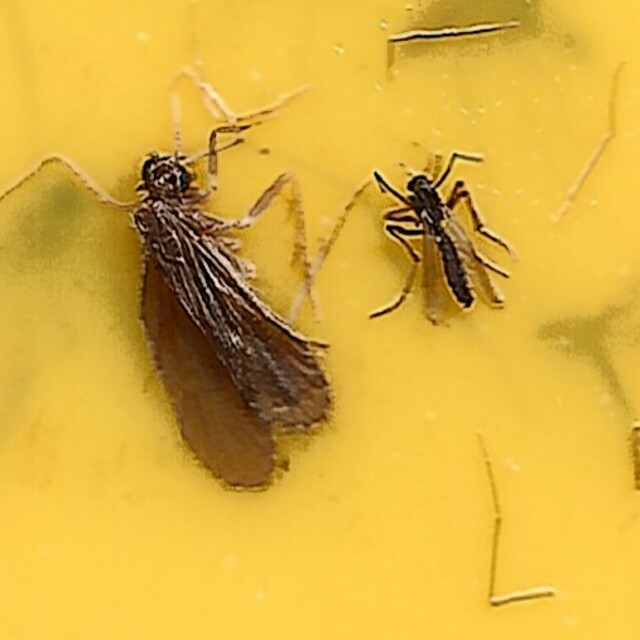Nematocera: (369, 153, 514, 331)
Trichoptera: (126, 146, 336, 494)
